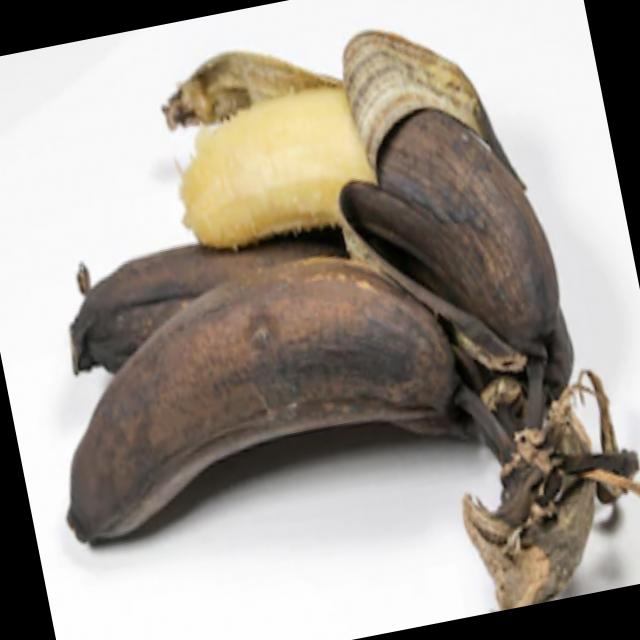rotten-banana: (31, 251, 482, 574), (113, 19, 594, 296), (59, 228, 250, 370)
